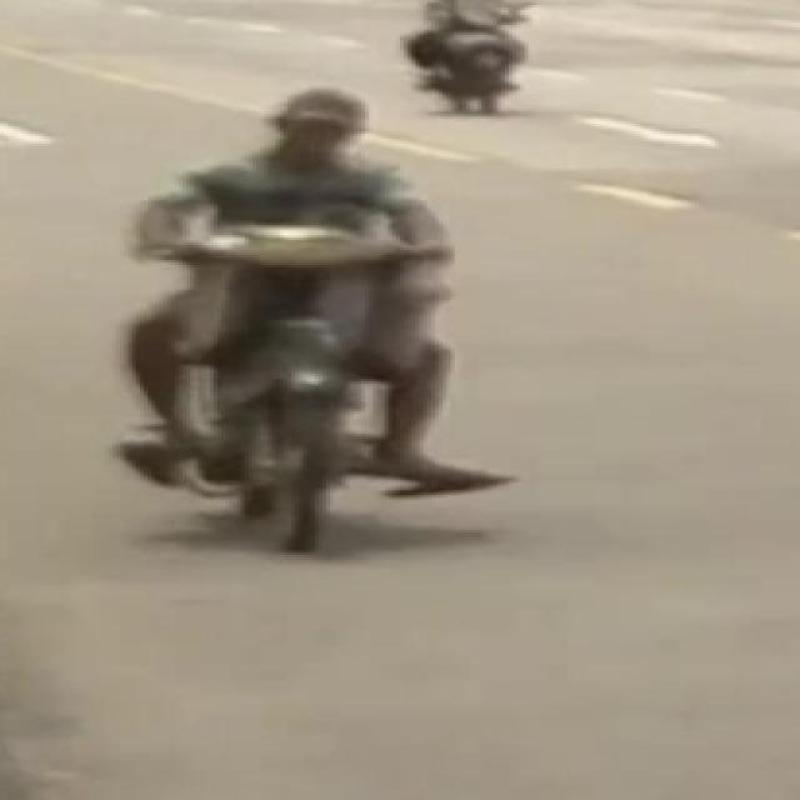nohelmet: (273, 78, 368, 172)
